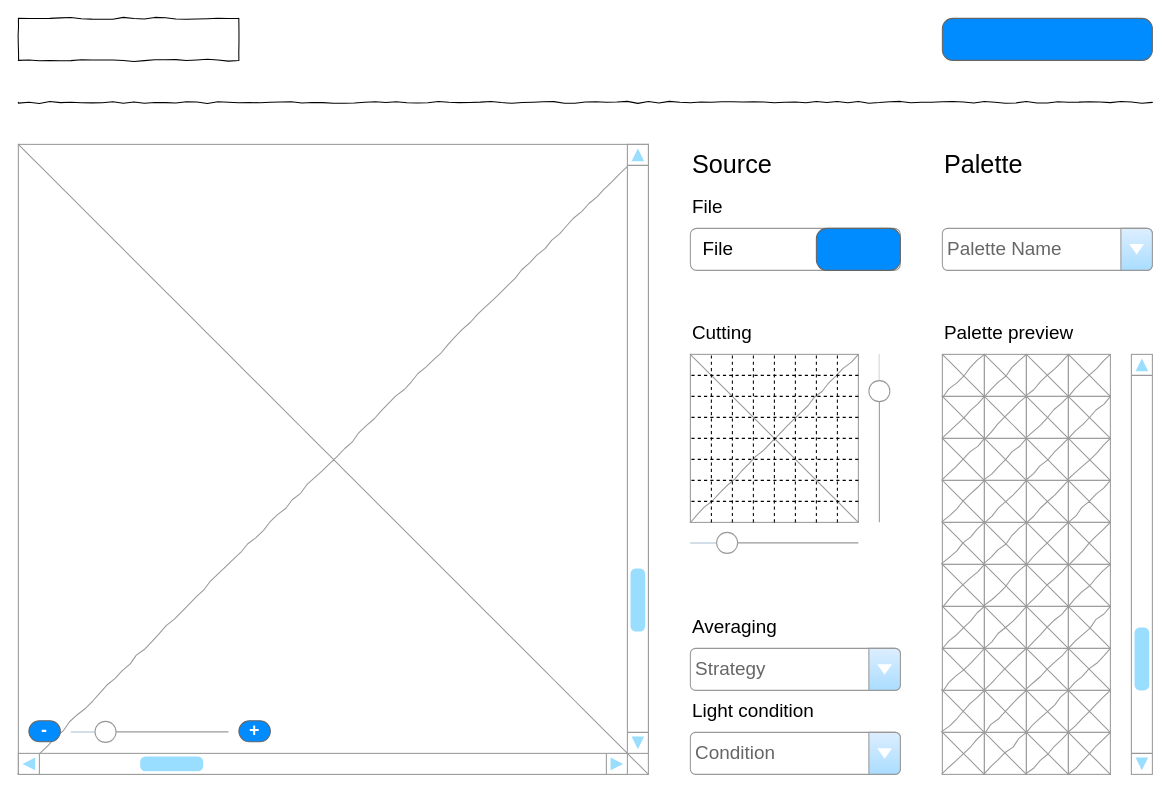
Image size: 1171x793. Some labels were removed from this diagram. Here are the shapes that lost their labels. From the top down, the centre of each, then its label:
At point 128,38: "MosaicMaker".
At point 1046,38: "Download".
At point 857,248: "Browse".
